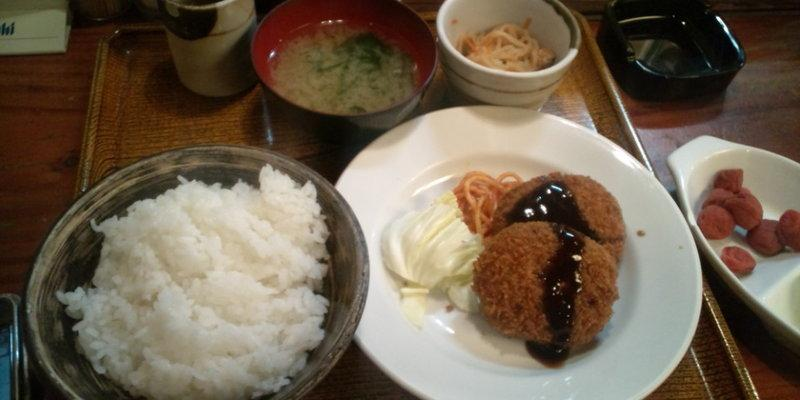plate: (20, 145, 369, 399)
rice: (61, 167, 329, 399)
